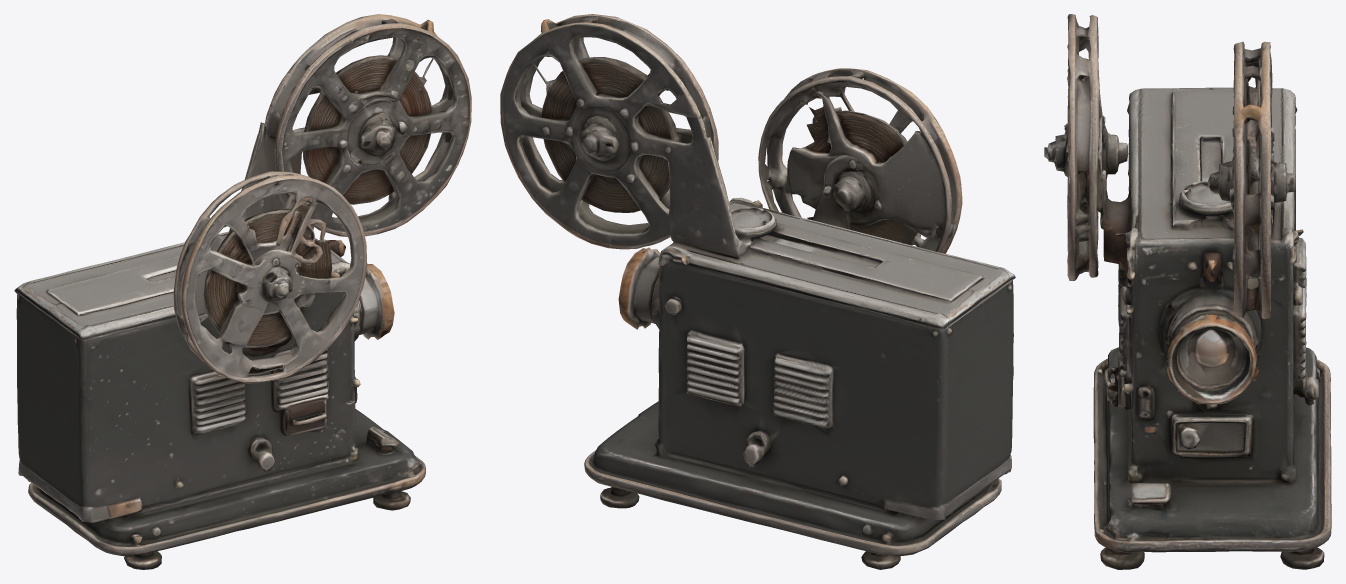
Rendered from scene-reel-projector-v03.glb.
The picture shows the model from 3 angles, left to right: view 1: azimuth 30°, elevation 25°; view 2: azimuth 150°, elevation 25°; view 3: azimuth 270°, elevation 25°; orthographic projection. The views are drawn at different scales.
Visible parts, largest first — view 1: tripo_node_71629c23-90c3-463b-8724-502066277080; view 2: tripo_node_71629c23-90c3-463b-8724-502066277080; view 3: tripo_node_71629c23-90c3-463b-8724-502066277080.
Part boxes in pixels (left/top/right/bottom): tripo_node_71629c23-90c3-463b-8724-502066277080: left=14, top=14, right=471, bottom=569; tripo_node_71629c23-90c3-463b-8724-502066277080: left=500, top=14, right=1015, bottom=569; tripo_node_71629c23-90c3-463b-8724-502066277080: left=1044, top=14, right=1331, bottom=569.
Bounding box in the file's own units: 0.6272 × 0.6 × 0.2958.
Materials: 1 (1 with a texture image).
